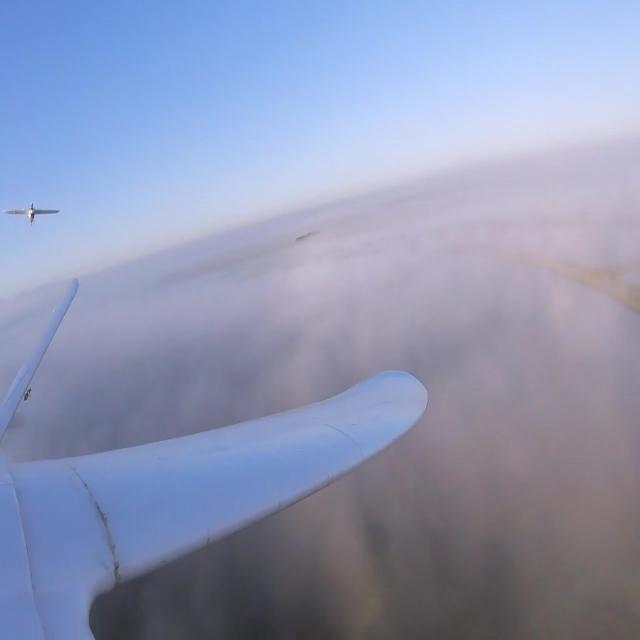iha: (6, 199, 61, 229)
